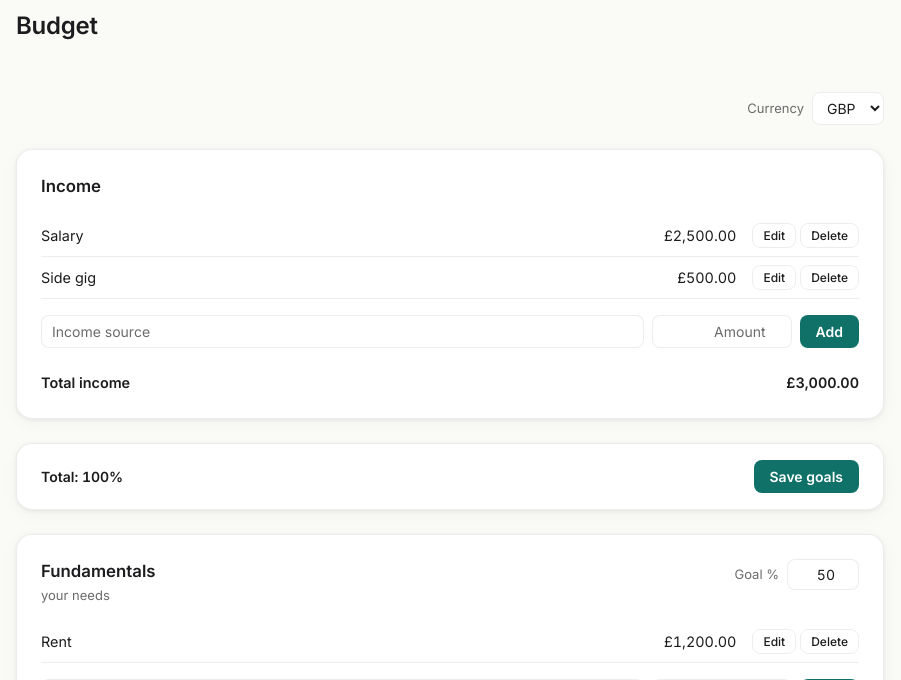
Test case: BudgetComponent › line-item CRUD › should disable a line-item row's buttons while its mutation is in flight
Click the button with class "item-delete-btn" at x=830, y=642, box [800,630,859,654]
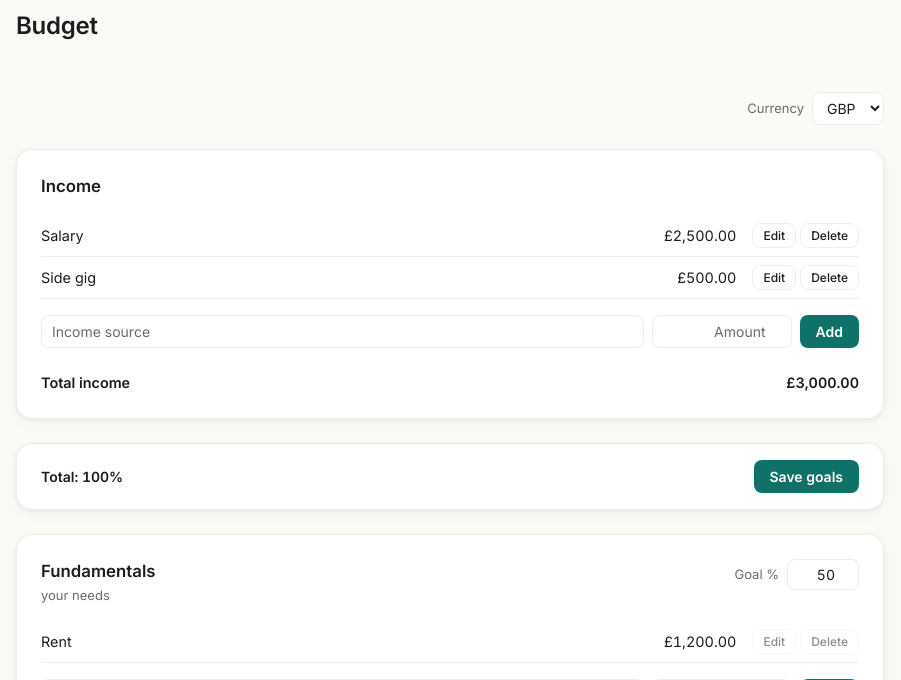
Result: the button with class "item-delete-btn" is disabled at [800,630,859,654]
Result: the button with class "item-edit-btn" is disabled at [752,630,796,654]
